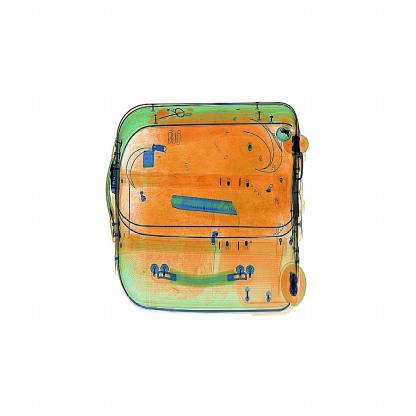pliers: (168, 193, 244, 222)
